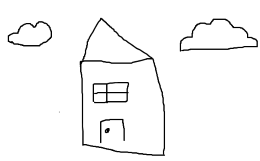closed_window: (91, 80, 133, 108)
clouds: (180, 17, 258, 51), (7, 20, 52, 46)
door: (97, 116, 130, 154)
roof: (82, 18, 153, 64)
wall: (79, 59, 165, 156)
